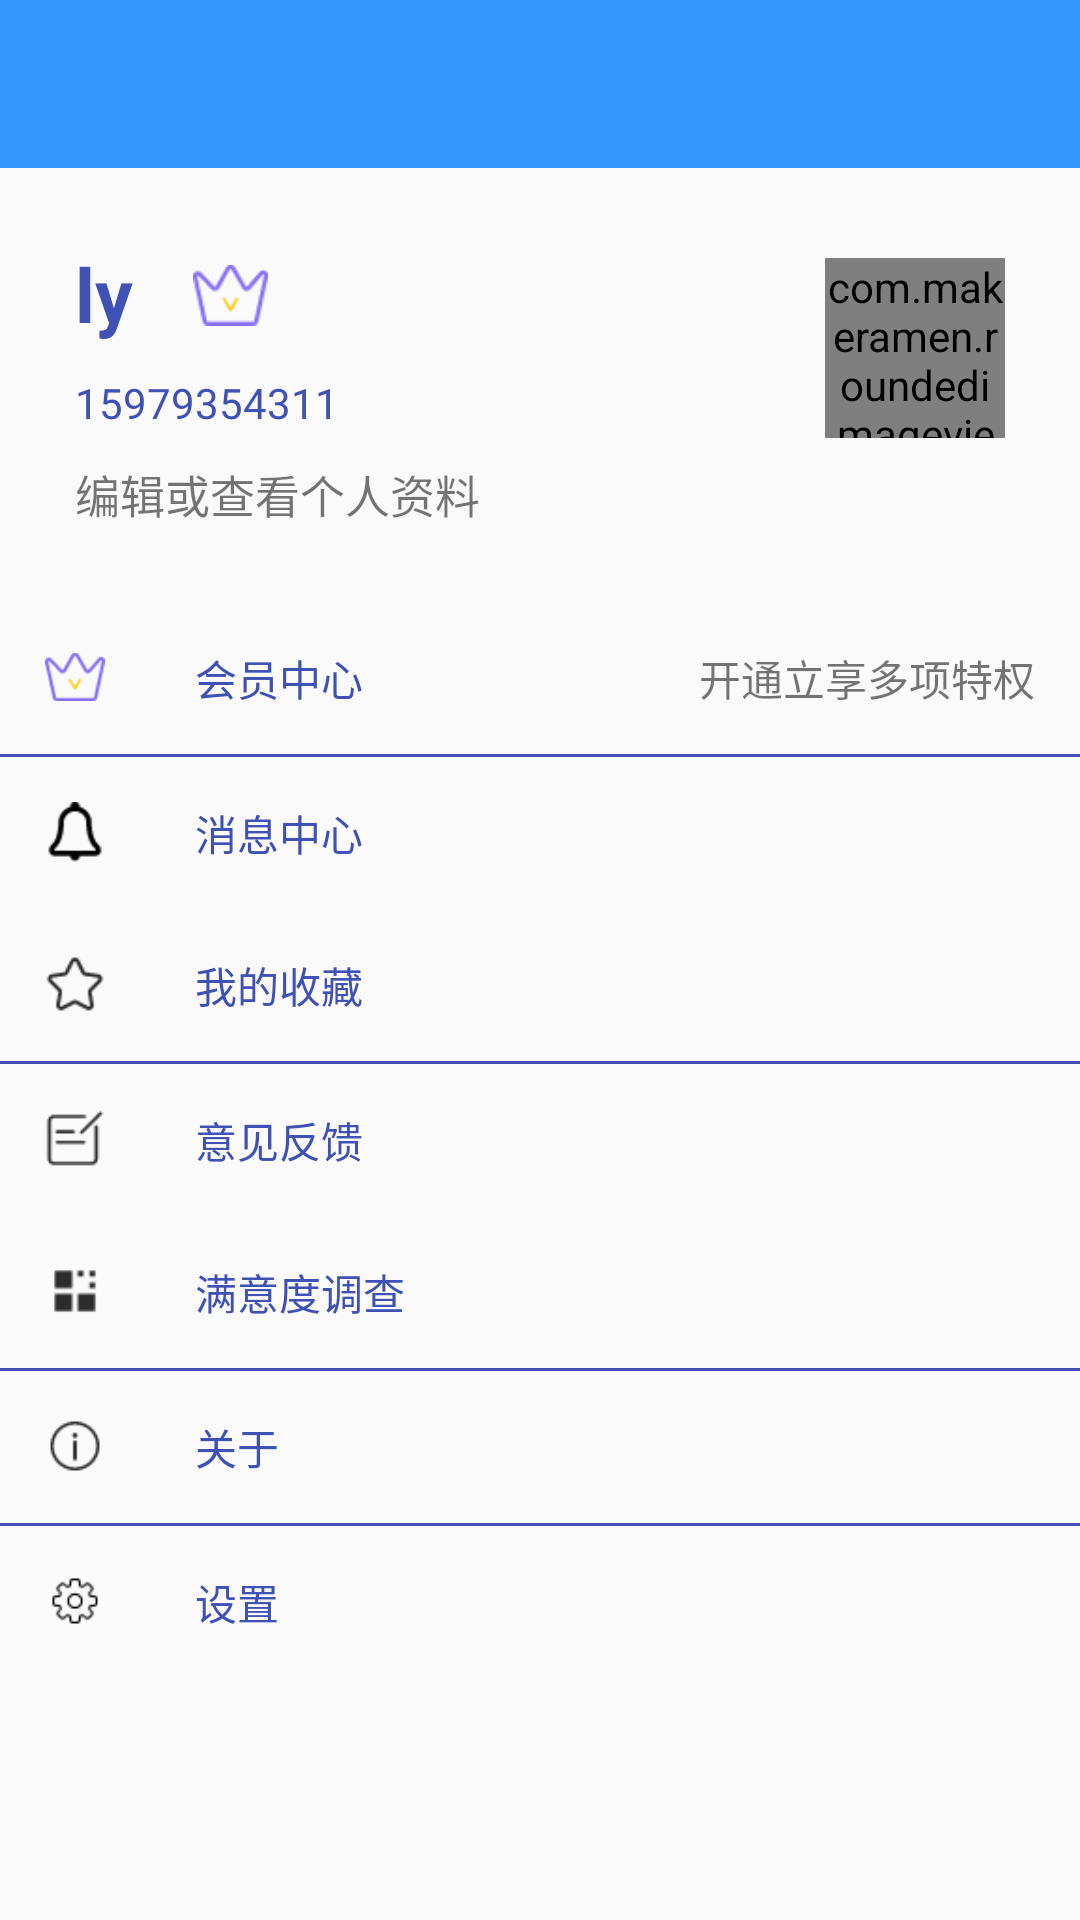

Named icons in this screenshot (1080*1920) and their centers, (x=x, y=y):
about: (x=75, y=1446)
idea: (x=75, y=1138)
mecollect: (x=75, y=984)
message: (x=75, y=832)
setting: (x=75, y=1601)
vipmember: (x=230, y=295), (x=75, y=677)
